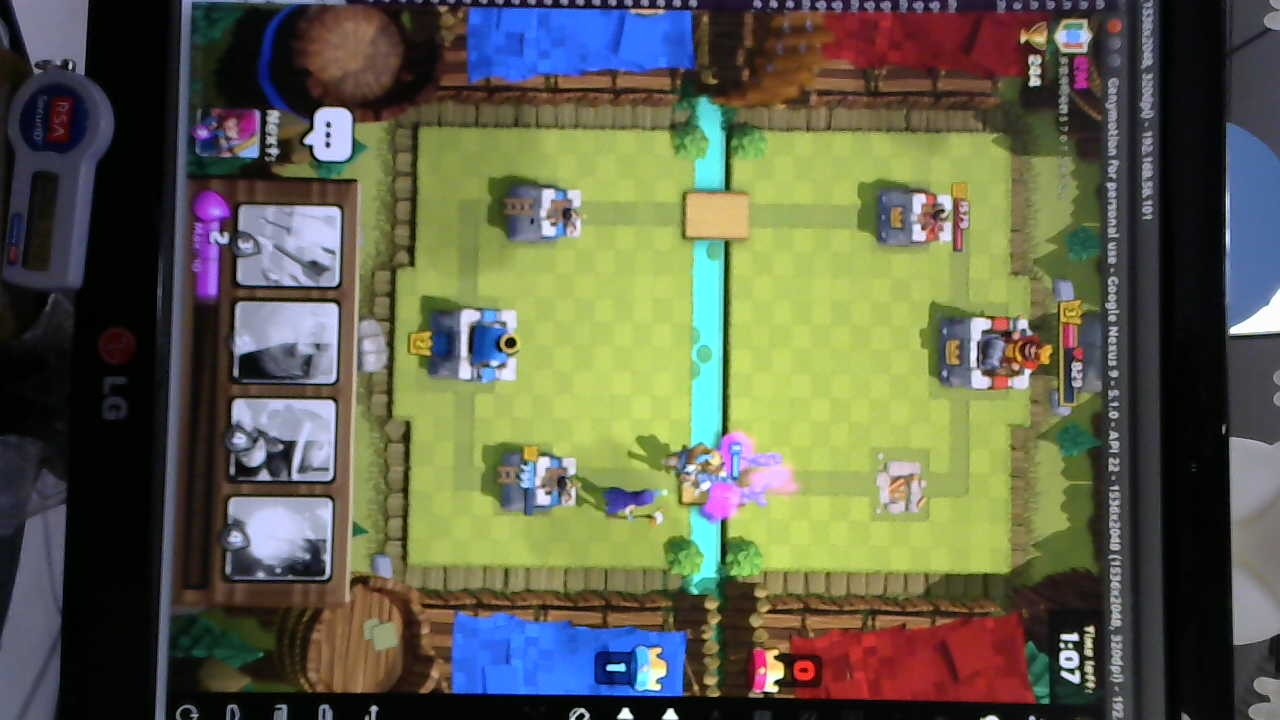arena: (503, 449, 581, 514), (514, 177, 585, 243)
darena: (873, 457, 926, 520)
earena: (880, 190, 959, 247)
eking: (935, 308, 1045, 393)
king: (430, 306, 523, 386)
prince: (658, 442, 732, 490)
witch: (598, 484, 661, 528)
